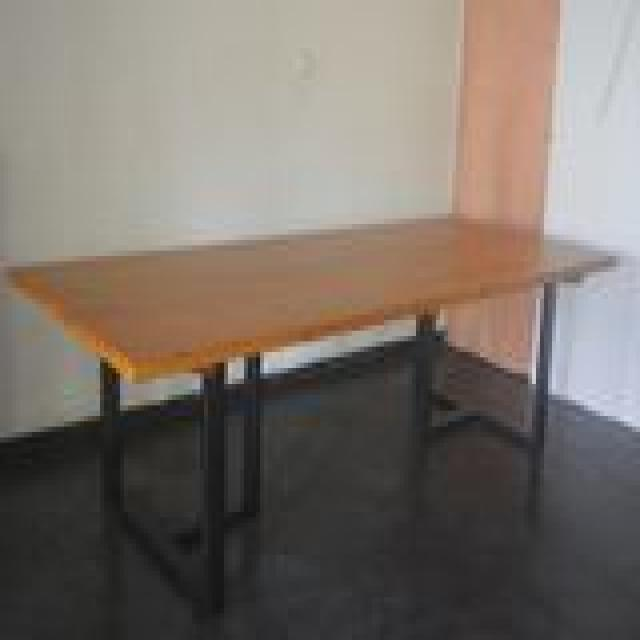others: (4, 171, 620, 565)
